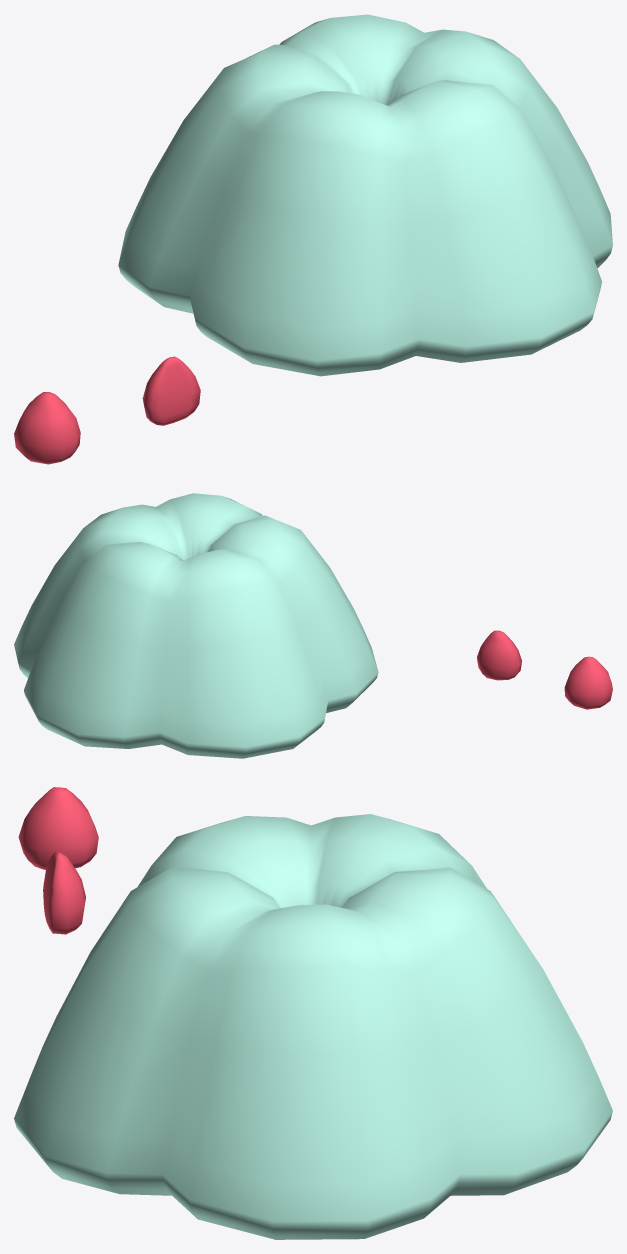
File: Jello_Strawberries.fbx
The picture shows the model from 3 angles, top to bottom: view 1: azimuth 30°, elevation 25°; view 2: azimuth 150°, elevation 25°; view 3: azimuth 270°, elevation 25°; orthographic projection. The views are drawn at different scales.
Parts seen in each view (by area): view 1: Jello, strawberry_full, strawberry_half; view 2: Jello, strawberry_full, strawberry_half; view 3: Jello, strawberry_full, strawberry_half.
Boxes of the visible parts, x1,y1,x2,y2 form: Jello: (118,14,612,376); strawberry_full: (14,392,80,464); strawberry_half: (142,356,200,425); Jello: (14,493,378,758); strawberry_full: (564,656,612,709); strawberry_half: (477,630,521,680); Jello: (14,814,612,1239); strawberry_full: (18,787,98,869); strawberry_half: (43,851,85,934).
Bounding box in the file's own units: 865 × 260 × 555.
